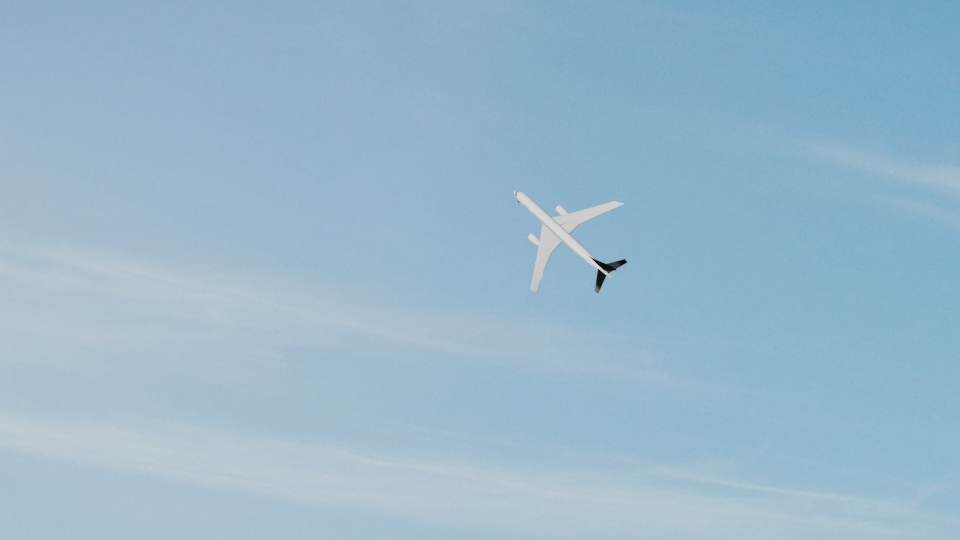plane: (513, 189, 629, 295)
